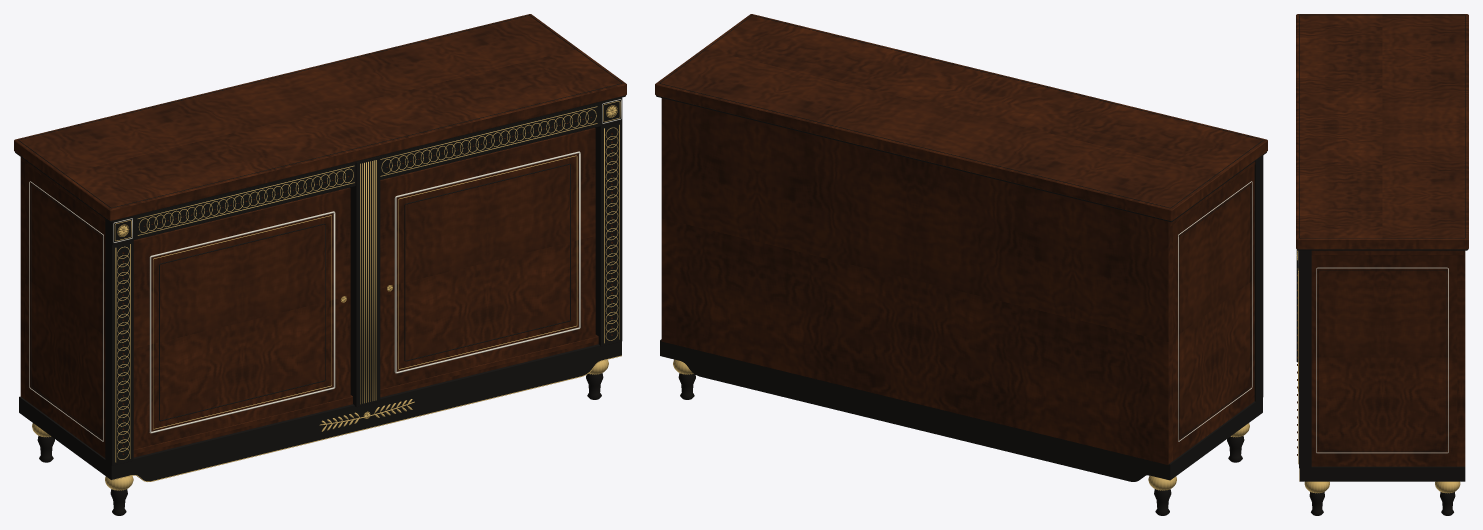
3 views of the same model, side by side, from view 1: azimuth 30°, elevation 25°; view 2: azimuth 150°, elevation 25°; view 3: azimuth 270°, elevation 25° (orthographic). The views are drawn at different scales.
Parts seen in each view (by area): view 1: Nantes two-door commode | dining-26 web batch; view 2: Nantes two-door commode | dining-26 web batch; view 3: Nantes two-door commode | dining-26 web batch.
Part boxes in pixels (x1,y1,x2,y2): Nantes two-door commode | dining-26 web batch: (14, 14, 626, 515); Nantes two-door commode | dining-26 web batch: (655, 14, 1267, 515); Nantes two-door commode | dining-26 web batch: (1296, 14, 1468, 515).
Size of the model in its own units: 1.64 by 0.9611 by 0.53.
7 materials, 2 textured.
